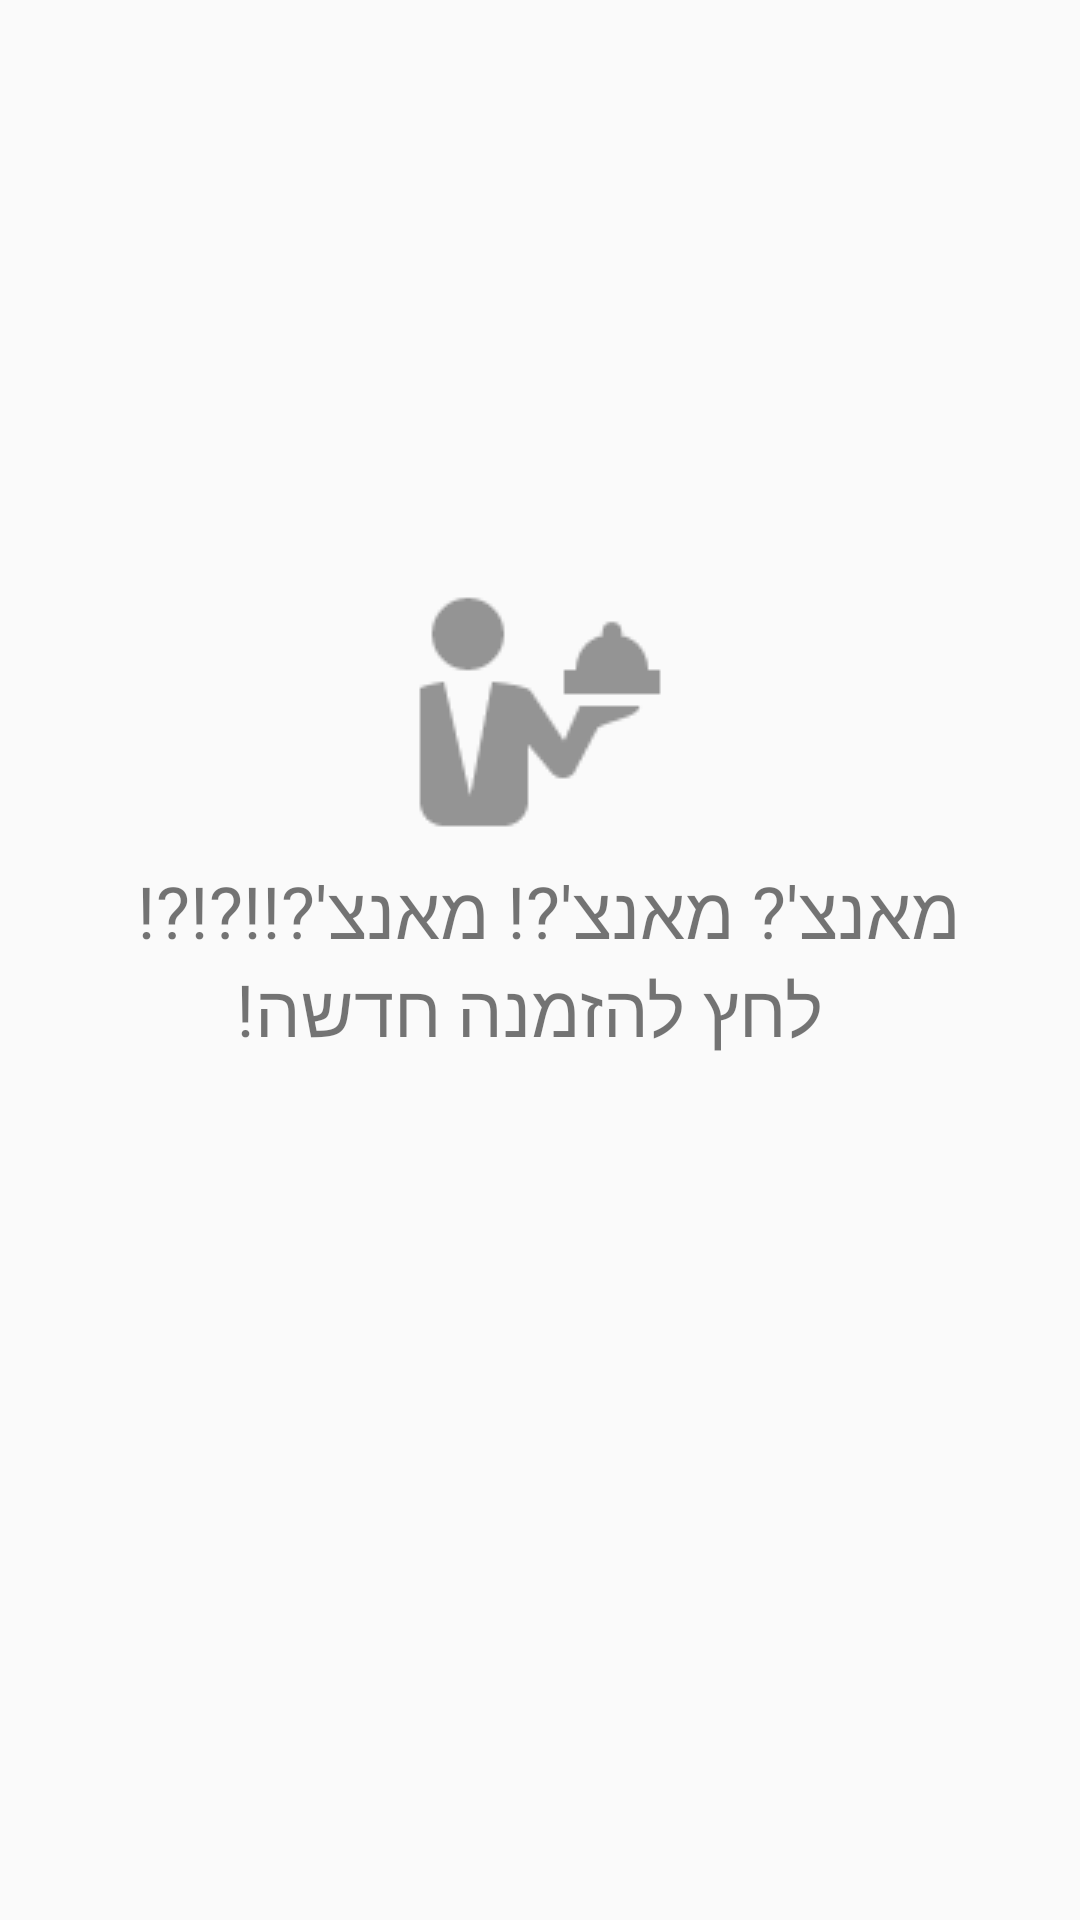

Locate icon controls on the screen. Image size 1080 × 1920, boxes as (x1,y1,x2,y2).
waiter: (419,597,661,827)
